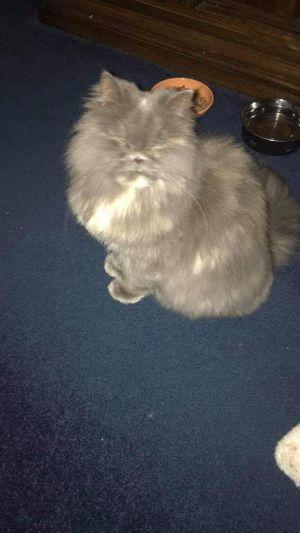persian: (56, 70, 216, 240)
